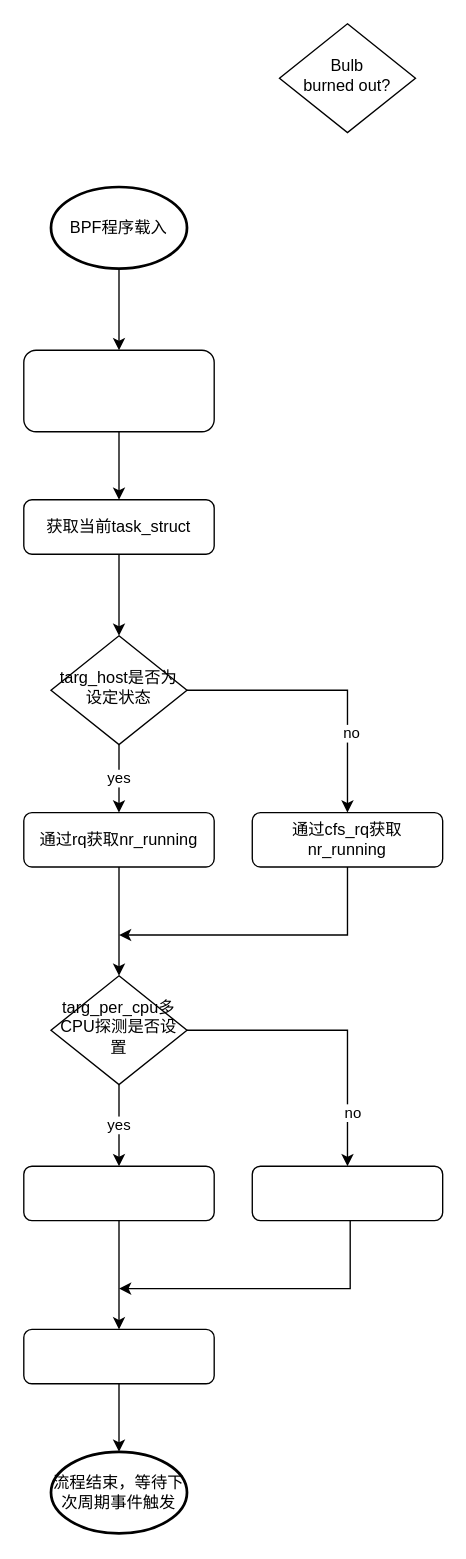
The diagram is 466 pixels wide and 1559 high, and some of its shapes have lost their labels. Here are the shapes that lost their labels. From the top down, the centre of each, then its label:
At point 118,390: "通过用户态设定perf-event性能事件的属性参数及采样事件周期等".
At point 118,1193: "cpu = 0".
At point 347,1193: "cpu = curr_cpu_id".
At point 118,1356: "原子方式增加对应cpu索引的hist数组的slots数值".
